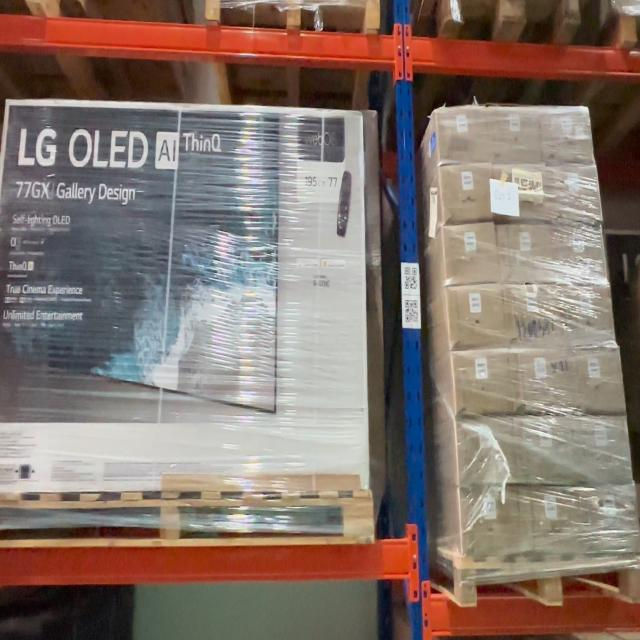box: (4, 113, 364, 493), (518, 418, 577, 482), (460, 417, 512, 485), (458, 490, 516, 550), (535, 489, 589, 553), (516, 351, 570, 410), (454, 352, 508, 410), (512, 286, 564, 346), (449, 287, 500, 346), (446, 223, 494, 283), (502, 225, 550, 283), (585, 416, 627, 482), (593, 484, 634, 551), (444, 162, 491, 220), (566, 284, 612, 343), (498, 166, 548, 220), (578, 347, 620, 411), (551, 226, 602, 277), (489, 107, 539, 159), (552, 163, 596, 220), (438, 108, 487, 158), (542, 108, 586, 158)
